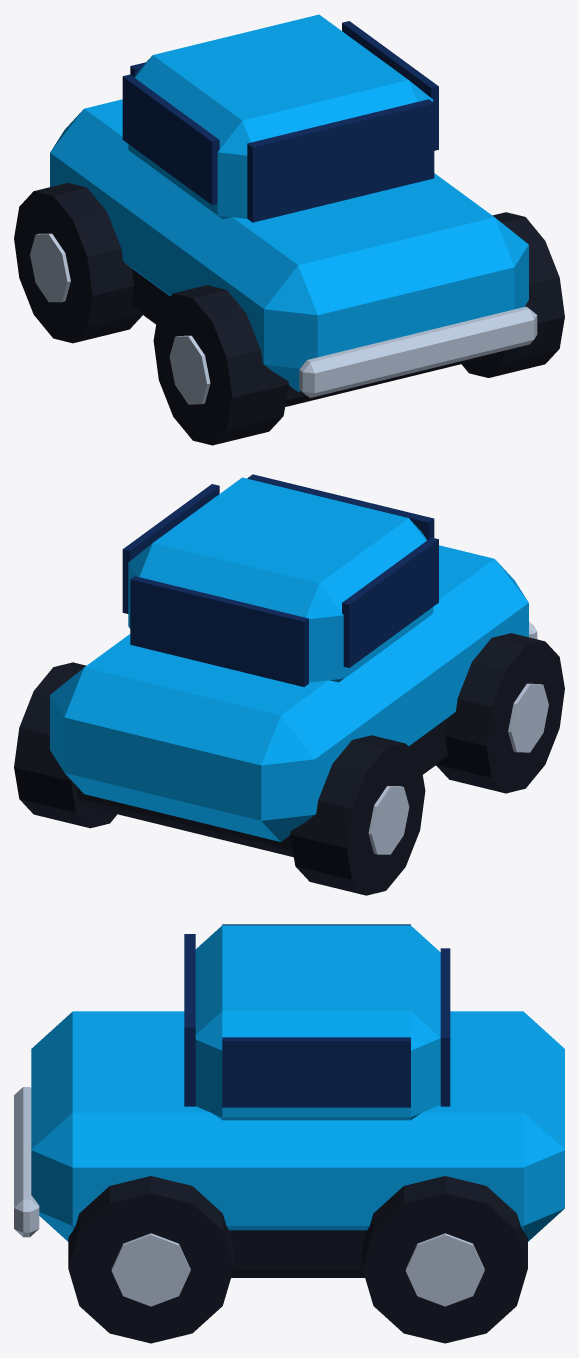
File: sport.glb
3 renders of one model, top to bottom at view 1: azimuth 30°, elevation 25°; view 2: azimuth 150°, elevation 25°; view 3: azimuth 270°, elevation 25°, orthographic. The views are drawn at different scales.
Parts seen in each view (by area): view 1: Chassis, WheelFrontL, WheelRearL, WheelFrontR; view 2: Chassis, WheelRearL, WheelFrontL, WheelRearR; view 3: Chassis, WheelFrontR, WheelRearR.
Part boxes in pixels (<box>): Chassis: <box>50,14,537,406</box>; WheelFrontL: <box>153,285,288,445</box>; WheelRearL: <box>14,183,142,343</box>; WheelFrontR: <box>461,212,564,377</box>; Chassis: <box>50,474,537,857</box>; WheelRearL: <box>290,735,425,895</box>; WheelFrontL: <box>436,633,564,793</box>; WheelRearR: <box>14,662,116,828</box>; Chassis: <box>14,924,564,1277</box>; WheelFrontR: <box>68,1176,233,1343</box>; WheelRearR: <box>362,1176,527,1343</box>.
Bounding box in the file's own units: 0.904 × 0.695 × 1.2.
